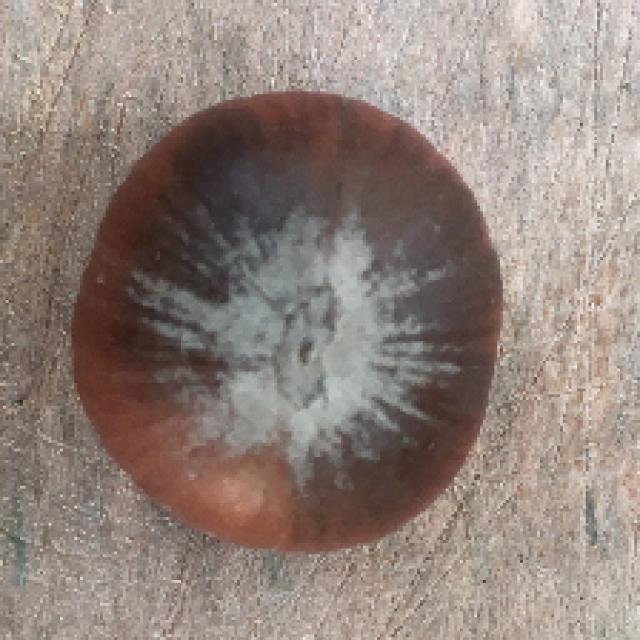damagedHazelnut: (61, 65, 523, 561)
